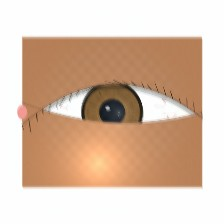pinguecula_lesion: (29, 99, 76, 137)
